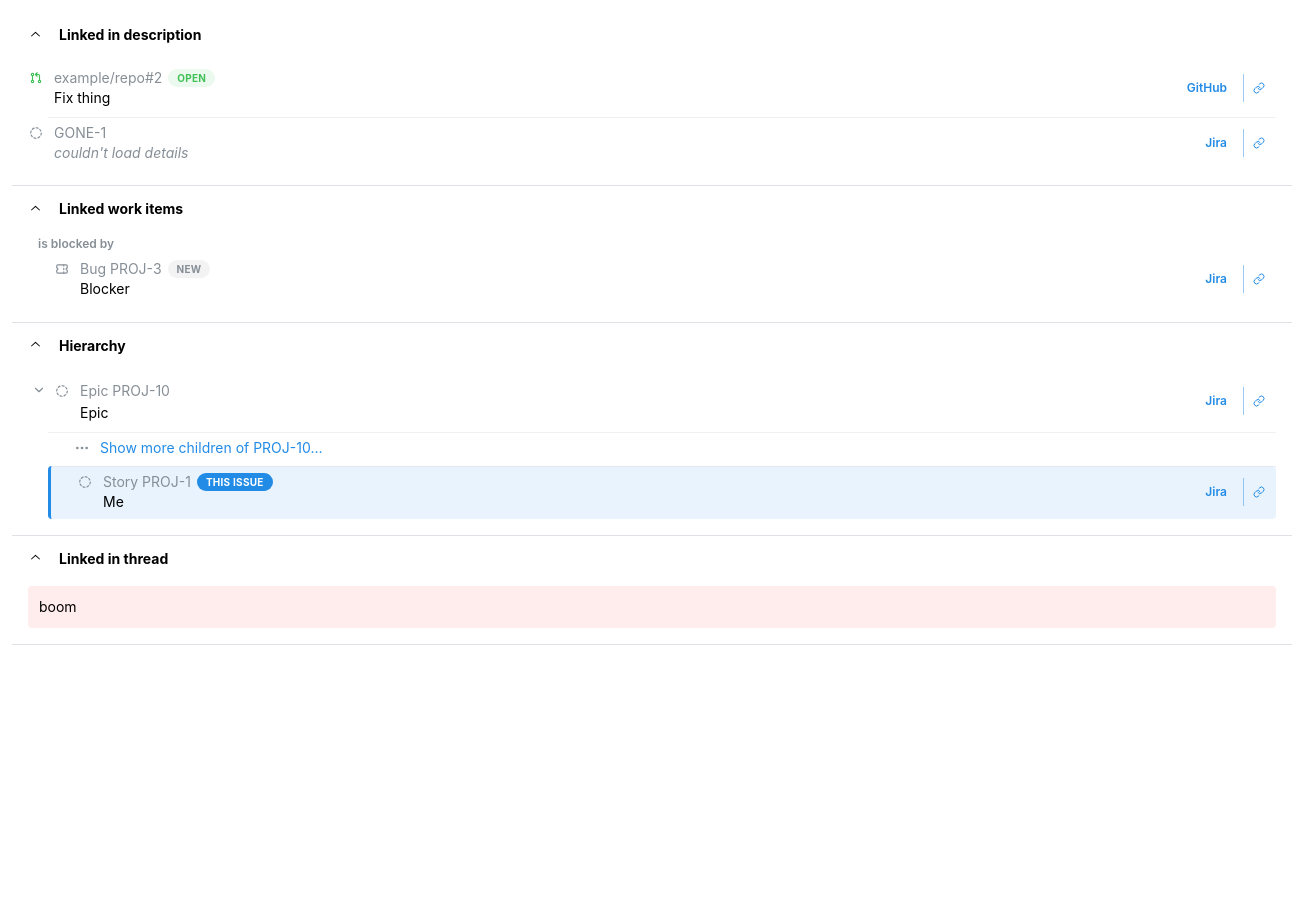
Test: LinkedResourcesPanel › opens on the path to the current issue, folding the other children of each ancestor
Expected: the text "Me" is shown, left=103, top=493, right=124, bottom=510
Expected: the text "Sibling" is not shown
Click the button "Show more children of PROJ-10…". click: (211, 448)
box: left=100, top=438, right=322, bottom=458
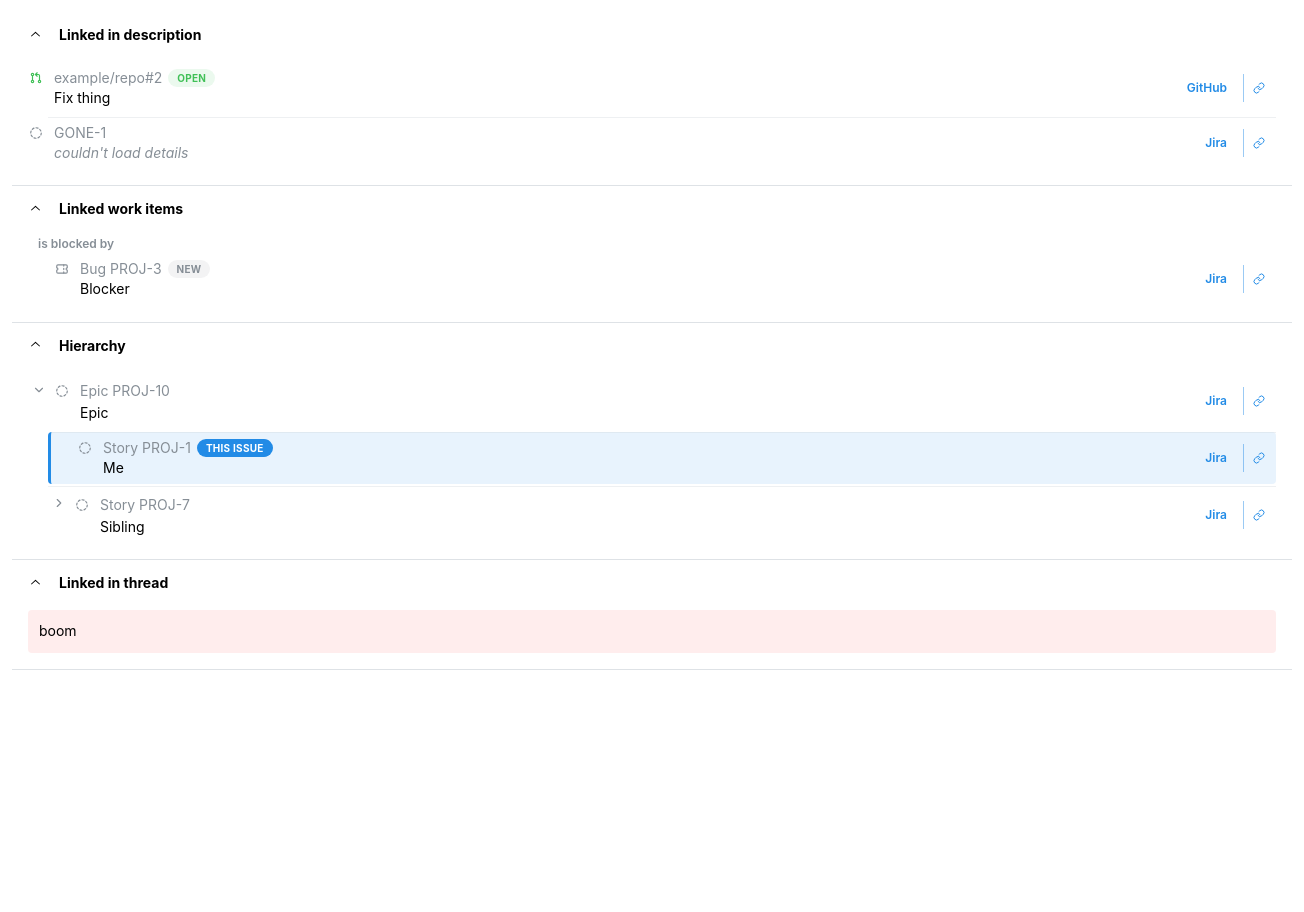
Now the text "Sibling" is shown, box left=100, top=518, right=145, bottom=535
Now the button "Show more children" is gone
